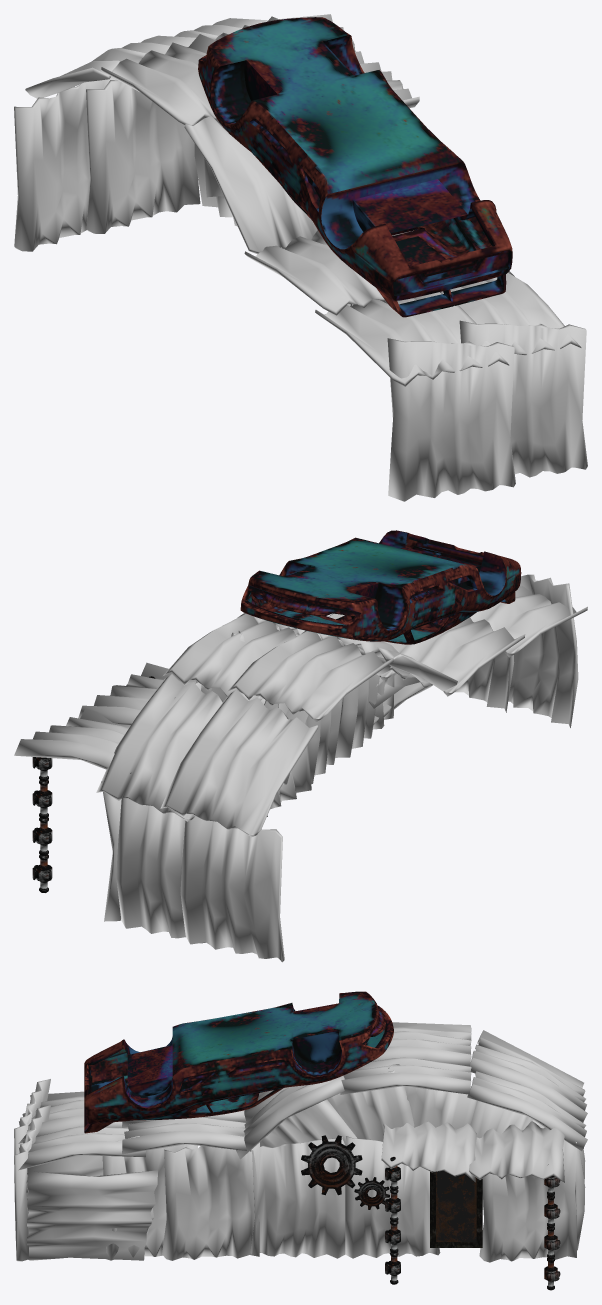
Rendered from ScrapHouseCris.fbx.
3 renders of one model, top to bottom at view 1: azimuth 30°, elevation 25°; view 2: azimuth 150°, elevation 25°; view 3: azimuth 270°, elevation 25°, orthographic. The views are drawn at different scales.
Parts seen in each view (by area): view 1: car cyberpunk.001, Corrugated Roof.049, Corrugated Roof.033, Corrugated Roof.040, Corrugated Roof.047, Corrugated Roof.051, Corrugated Roof.048, Corrugated Roof.044, Corrugated Roof.050, Corrugated Roof.039, Corrugated Roof.046, Corrugated Roof.031 (+2 smaller); view 2: car cyberpunk.001, Corrugated Roof.046, Corrugated Roof.047, Corrugated Roof.031, Corrugated Roof.033, Corrugated Roof.044, Corrugated Roof.049, Corrugated Roof.028, Corrugated Roof.050, Corrugated Roof.030, Corrugated Roof.048, Corrugated Roof.042 (+8 smaller); view 3: car cyberpunk.001, Corrugated Roof.029, Corrugated Roof.045, Corrugated Roof.036, Corrugated Roof.027, Corrugated Roof.030, Corrugated Roof.046, Corrugated Roof.038, fenceDoor.003, Corrugated Roof.028, Corrugated Roof.043, Corrugated Roof.031 (+18 smaller).
Part boxes in pixels (x1,y1,x2,y2): car cyberpunk.001: (198,17,512,317); Corrugated Roof.049: (387,338,515,501); Corrugated Roof.033: (86,80,200,233); Corrugated Roof.040: (459,320,587,477); Corrugated Roof.047: (14,77,117,251); Corrugated Roof.051: (184,116,317,254); Corrugated Roof.048: (315,292,509,386); Corrugated Roof.044: (101,34,216,125); Corrugated Roof.050: (244,230,442,315); Corrugated Roof.039: (441,273,581,355); Corrugated Roof.046: (25,35,195,98); Corrugated Roof.031: (111,18,267,79); car cyberpunk.001: (240,530,521,644); Corrugated Roof.046: (160,689,318,837); Corrugated Roof.047: (180,816,284,962); Corrugated Roof.031: (96,674,222,821); Corrugated Roof.033: (116,798,205,943); Corrugated Roof.044: (227,631,393,722); Corrugated Roof.049: (508,574,578,727); Corrugated Roof.028: (163,613,296,700); Corrugated Roof.050: (383,617,525,696); Corrugated Roof.030: (14,708,129,769); Corrugated Roof.048: (470,586,587,657); Corrugated Roof.042: (335,674,394,757); car cyberpunk.001: (84,991,393,1133); Corrugated Roof.029: (250,1136,440,1258); Corrugated Roof.045: (27,1170,157,1260); Corrugated Roof.036: (162,1142,259,1260); Corrugated Roof.027: (479,1140,576,1262); Corrugated Roof.030: (469,1121,564,1182); Corrugated Roof.046: (470,1030,587,1122); Corrugated Roof.038: (381,1121,476,1182); fenceDoor.003: (430,1170,482,1247); Corrugated Roof.028: (340,1056,471,1094); Corrugated Roof.043: (122,1117,251,1154); Corrugated Roof.031: (467,1071,587,1151).
Size of the model in its own units: 635 by 583 by 1370.
